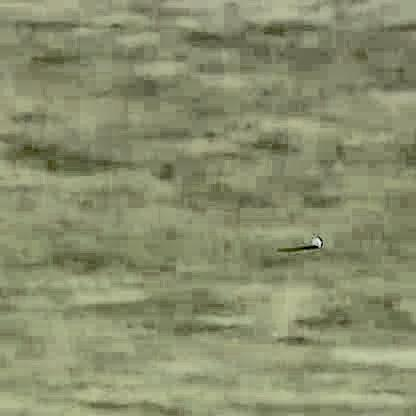golfball: (307, 235, 320, 246)
